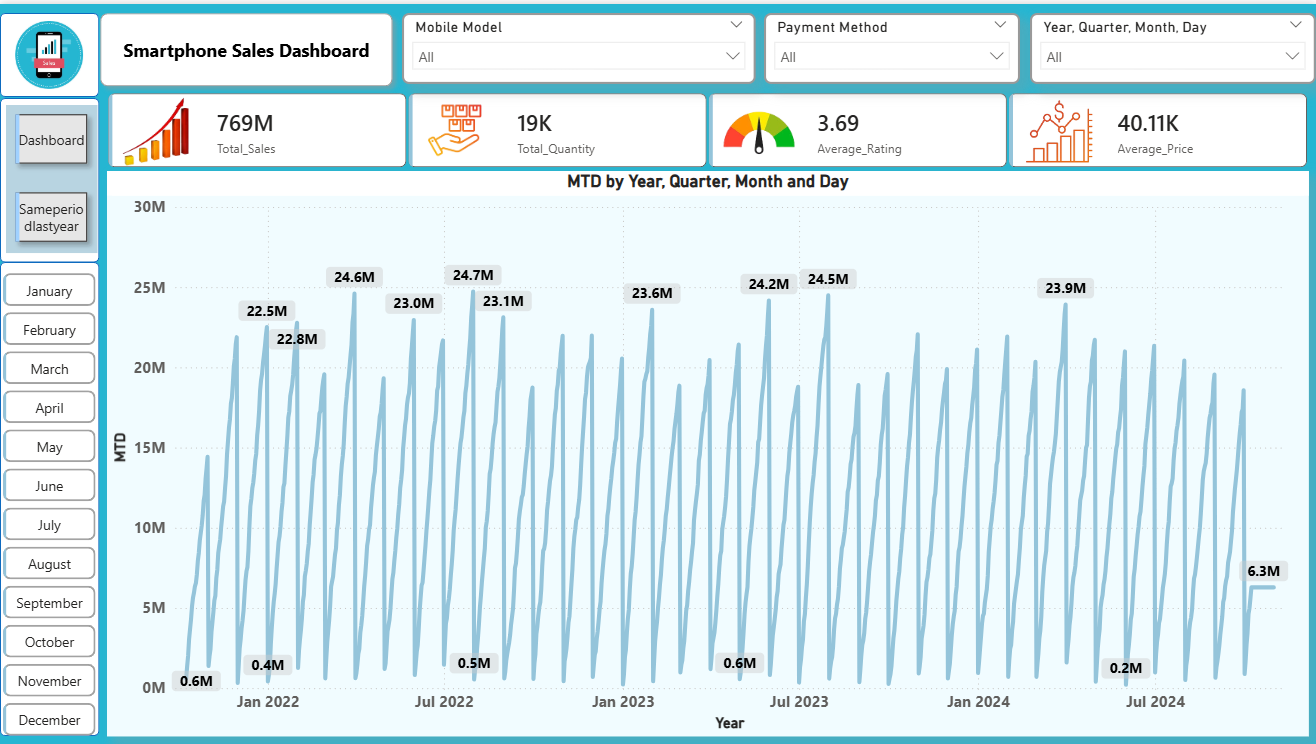

Layout of this report page (visuals, bound fields, positions):
{"tool":"powerbi","page":{"name":"MTD Report","canvas":[1280,720],"ordinal":1},"visuals":[{"type":"shape","box":[0,8.8,96.3,81.7],"z":0},{"type":"image","box":[7.8,16.5,80.7,66.1],"z":1000},{"type":"shape","box":[0,91.1,96.7,160],"z":2000},{"type":"cardVisual","fields":{"Data":["Measure_Table.Total_Sales","Measure_Table.Total_Quantity","Measure_Table.Average_Rating","Measure_Table.Average_Price"]},"box":[96.7,77.8,1184.4,90],"z":3000},{"type":"slicer","fields":{"Values":["Mobile_Sales_Data.Mobile Model"]},"box":[391.1,8.9,344.4,68.9],"z":4000},{"type":"slicer","fields":{"Values":["Mobile_Sales_Data.Payment Method"]},"box":[743.3,8.9,248.9,68.9],"z":5000},{"type":"slicer","fields":{"Values":["Custom_Calendar.Date.Variation.Date Hierarchy.Year","Custom_Calendar.Date.Variation.Date Hierarchy.Quarter","Custom_Calendar.Date.Variation.Date Hierarchy.Month","Custom_Calendar.Date.Variation.Date Hierarchy.Day"]},"box":[1002.2,8.9,277.8,68.9],"z":6000},{"type":"shape","box":[88.9,0,302.2,90],"z":7000},{"type":"lineChart","fields":{"Y":["Measure_Table.MTD"],"Category":["Custom_Calendar.Date.Variation.Date Hierarchy.Year","Custom_Calendar.Date.Variation.Date Hierarchy.Quarter","Custom_Calendar.Date.Variation.Date Hierarchy.Month","Custom_Calendar.Date.Variation.Date Hierarchy.Day"]},"box":[104.4,162.2,1168.9,550],"z":8000},{"type":"shape","box":[0,251.1,96.7,461.1],"z":9000},{"type":"advancedSlicerVisual","fields":{"Values":["Custom_Calendar.Date.Variation.Date Hierarchy.Month"]},"box":[0,258.7,96.3,461],"z":10000},{"type":"pageNavigator","box":[5.8,98.2,88.5,144],"z":10001}]}

Visuals, with their boxes in screenshot pixels (x1, y1, x2, y2), scaled from the page's 1280x720 canvas onto the 1316x744 screenshot:
shape: [0,9,99,94]
image: [8,17,91,85]
shape: [0,94,99,259]
cardVisual - Measure_Table.Total_Sales x Measure_Table.Total_Quantity: [99,80,1315,173]
slicer - Mobile_Sales_Data.Mobile Model: [402,9,756,80]
slicer - Mobile_Sales_Data.Payment Method: [764,9,1020,80]
slicer - Custom_Calendar.Date.Variation.Date Hierarchy.Year x Custom_Calendar.Date.Variation.Date Hierarchy.Quarter: [1030,9,1315,80]
shape: [91,0,402,93]
lineChart - Measure_Table.MTD x Custom_Calendar.Date.Variation.Date Hierarchy.Year: [107,168,1309,736]
shape: [0,259,99,736]
advancedSlicerVisual - Custom_Calendar.Date.Variation.Date Hierarchy.Month: [0,267,99,743]
pageNavigator: [6,101,97,250]
